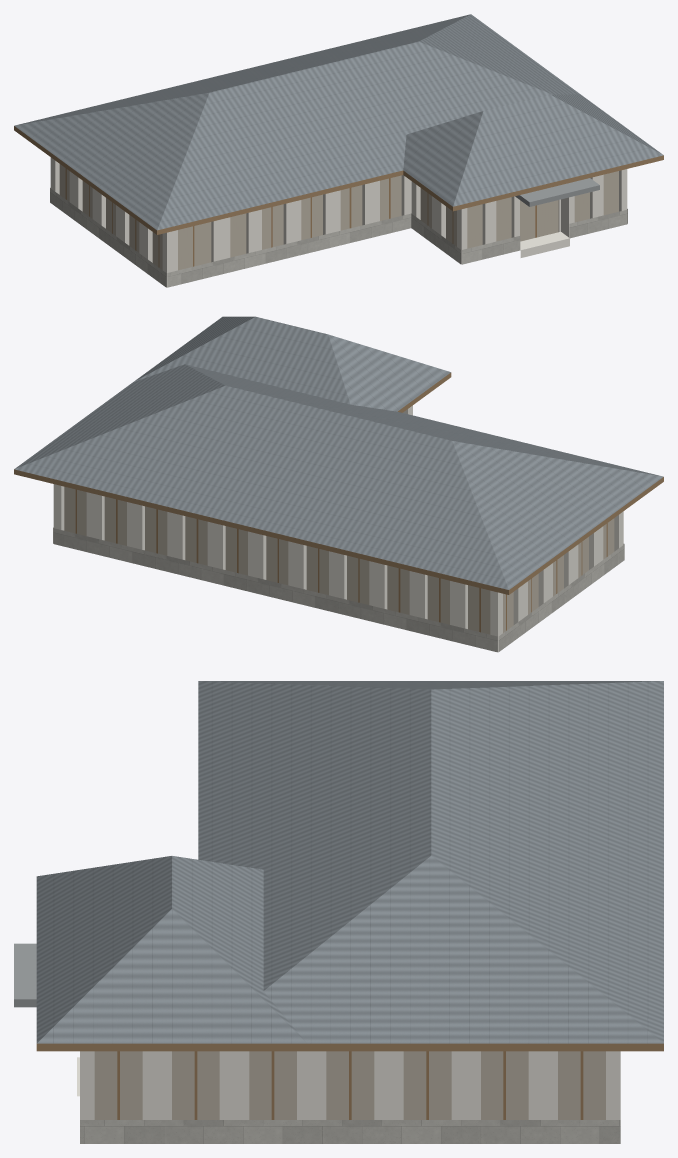
The picture shows the model from 3 angles, top to bottom: view 1: azimuth 30°, elevation 25°; view 2: azimuth 150°, elevation 25°; view 3: azimuth 270°, elevation 25°; orthographic projection. The views are drawn at different scales.
Parts seen in each view (by area): view 1: b1554173625__roofAccent, b1554173625__glass, b1554173625__wall, b1554173625__base, b1554173625__trim, b1554173625__canopy, b1554173625__frame, b1554173625__entranceThreshold_0; view 2: b1554173625__roofAccent, b1554173625__glass, b1554173625__wall, b1554173625__base, b1554173625__trim, b1554173625__frame; view 3: b1554173625__roofAccent, b1554173625__glass, b1554173625__wall, b1554173625__base, b1554173625__trim, b1554173625__frame, b1554173625__canopy.
Boxes of the visible parts, x1,y1,x2,y2 form: b1554173625__roofAccent: (14, 14, 663, 230); b1554173625__glass: (59, 164, 618, 270); b1554173625__wall: (50, 157, 627, 286); b1554173625__base: (50, 187, 627, 287); b1554173625__trim: (14, 126, 663, 234); b1554173625__canopy: (515, 178, 599, 206); b1554173625__frame: (65, 168, 536, 267); b1554173625__entranceThreshold_0: (520, 231, 569, 257); b1554173625__roofAccent: (14, 316, 663, 589); b1554173625__glass: (64, 486, 614, 634); b1554173625__wall: (53, 405, 623, 651); b1554173625__base: (53, 527, 624, 652); b1554173625__trim: (14, 372, 663, 594); b1554173625__frame: (75, 489, 607, 632); b1554173625__roofAccent: (36, 681, 663, 1043); b1554173625__glass: (94, 1051, 605, 1119); b1554173625__wall: (80, 1051, 620, 1119); b1554173625__base: (80, 1120, 620, 1143); b1554173625__trim: (36, 1043, 663, 1051); b1554173625__frame: (117, 1051, 583, 1119); b1554173625__canopy: (14, 943, 36, 1007).
Bounding box in the file's own units: 26 × 7.35 × 19.69.
11 materials, 2 textured.
